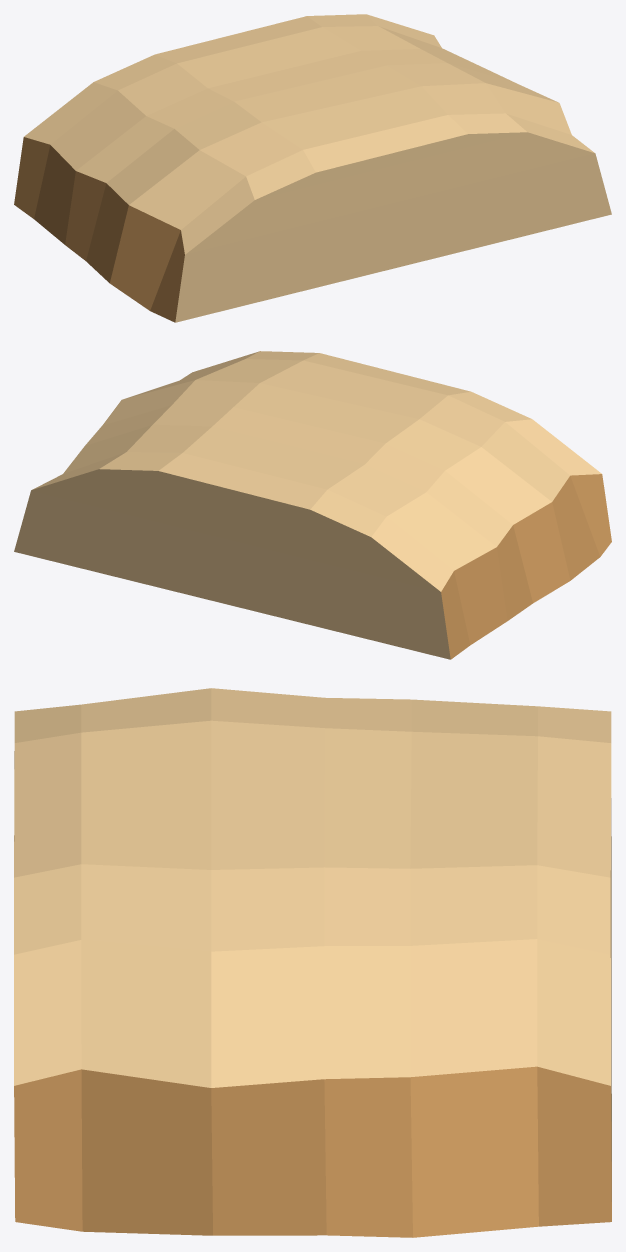
The model's file is underpath.fbx.
The picture shows the model from 3 angles, top to bottom: view 1: azimuth 30°, elevation 25°; view 2: azimuth 150°, elevation 25°; view 3: azimuth 270°, elevation 25°; orthographic projection. The views are drawn at different scales.
Parts seen in each view (by area): view 1: Cube; view 2: Cube; view 3: Cube.
Boxes of the visible parts, x1,y1,x2,y2 form: Cube: [14, 14, 611, 322]; Cube: [14, 351, 611, 659]; Cube: [14, 688, 611, 1237].
Size of the model in its own units: 6.4 by 1.69 by 3.86.
